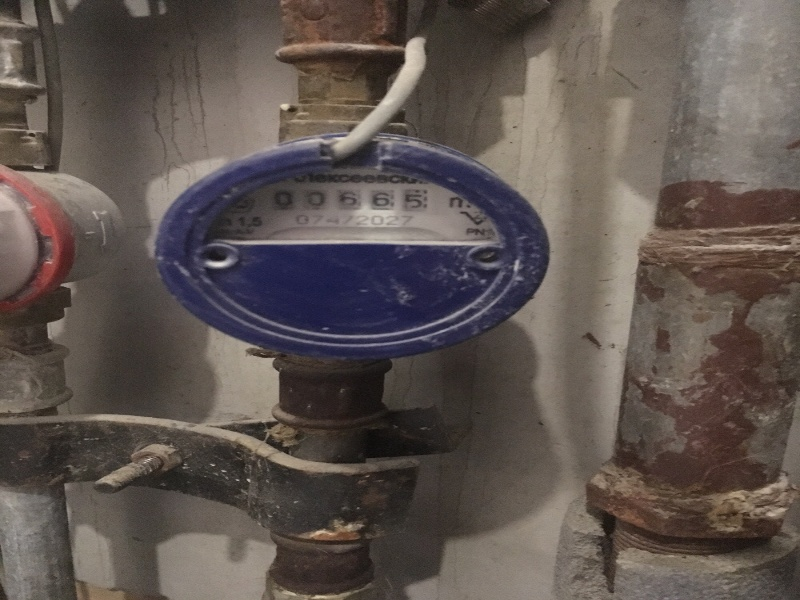meter: (259, 185, 443, 216)
